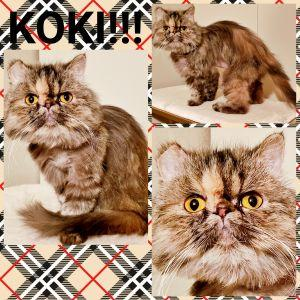persian: (6, 55, 104, 152)
